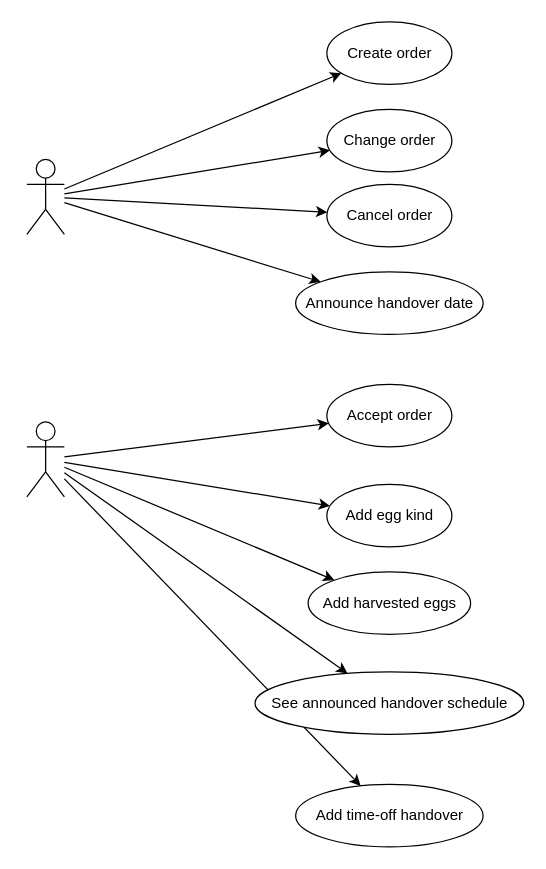
This 546x869 diagram has some shape labels left out. The centre of each missing label's shape, as x and y in pixels:
"Buyer" belongs at point (45, 196).
"Farmer" belongs at point (45, 459).
